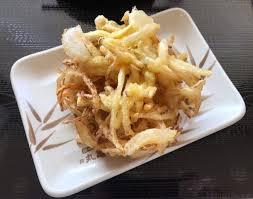kakiage: (64, 27, 202, 155)
